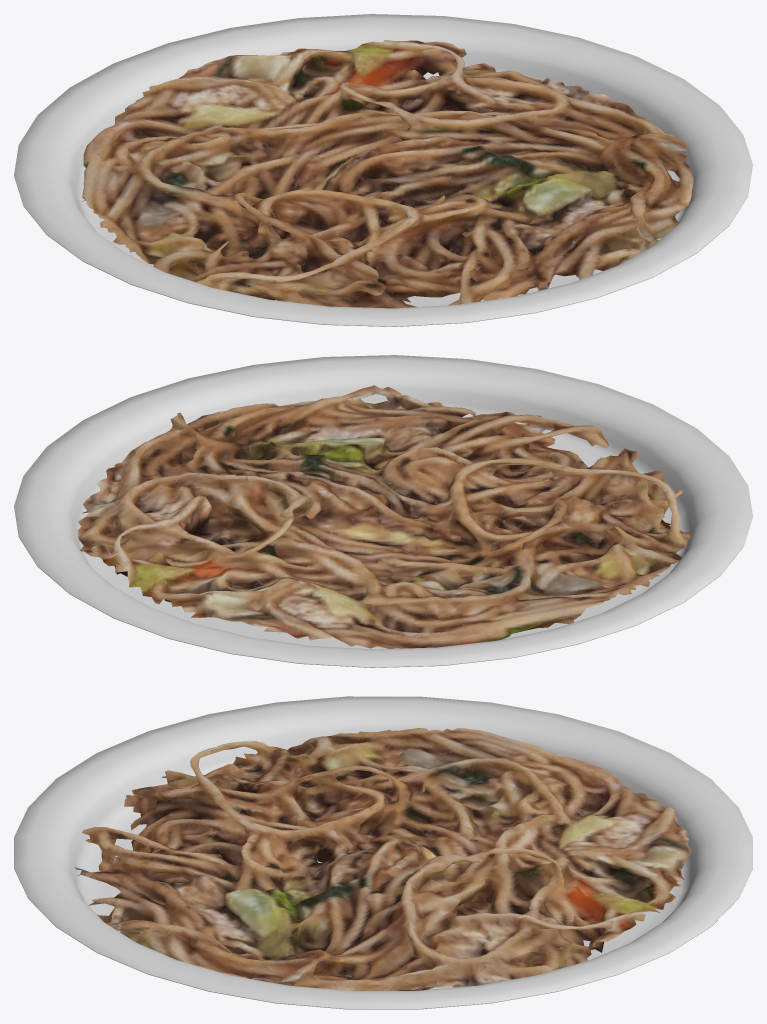
Rendered from noodles.glb.
3 views of the same model, one above another, from view 1: azimuth 30°, elevation 25°; view 2: azimuth 150°, elevation 25°; view 3: azimuth 270°, elevation 25° (orthographic).
Parts seen in each view (by area): view 1: noodles; view 2: noodles; view 3: noodles.
Part boxes in pixels (bbox=[...]): noodles: bbox=[14, 14, 752, 326]; noodles: bbox=[14, 355, 752, 667]; noodles: bbox=[14, 696, 752, 1009].
Bounding box in the file's own units: 1.59 × 0.1263 × 1.59.
2 materials, 1 textured.
